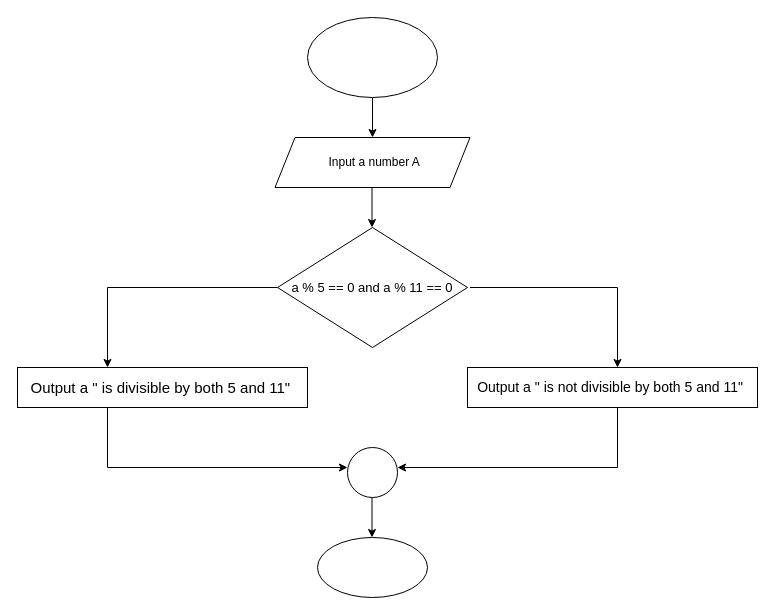
This 775x615 diagram has some shape labels left out. Here are the shapes that lost their labels. From the top down, the box of each, then its label:
(306, 16, 438, 98): START
(316, 536, 428, 598): STOP
